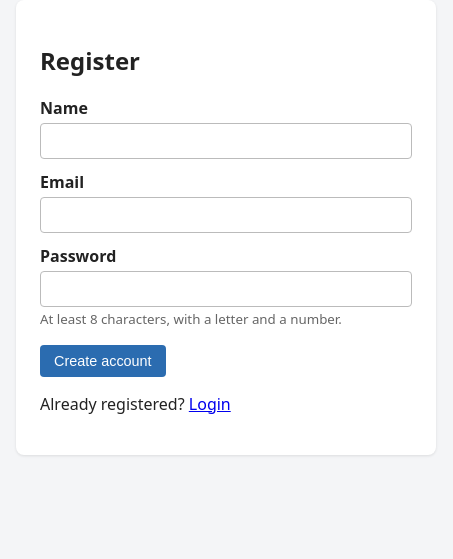
Test: RegisterPage › shows validation errors from the server
The width and height of the screenshot is (453, 559).
Type "Sam" into the field labelled "Name". click: (226, 141)
box: [40,123,412,159]
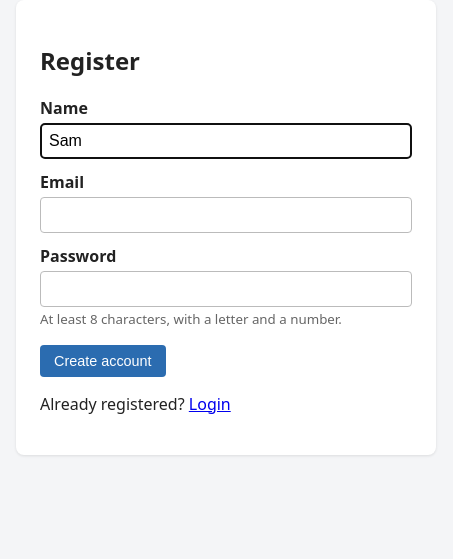
Type "sam@test.com" into the field labelled "Email". click: (226, 215)
box: [40,197,412,233]
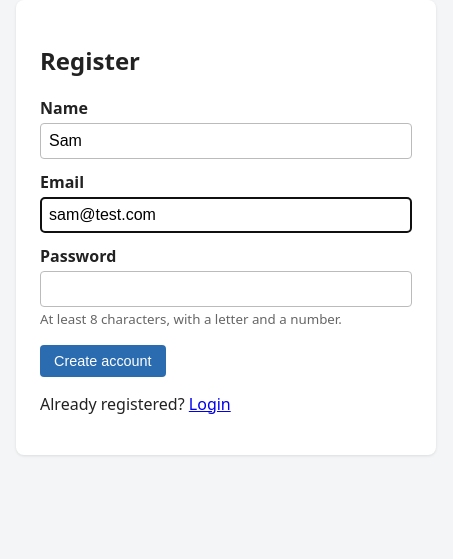
Type "Reader123" into the password field labelled "Password". click: (226, 289)
box: [40,271,412,307]
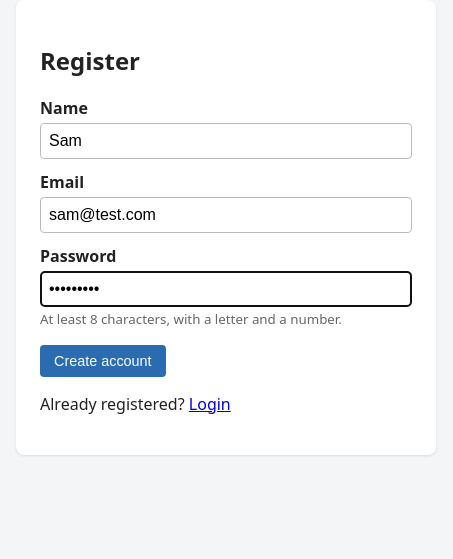
Click the button "Create account". click: click(103, 361)
box: [40,345,166,377]
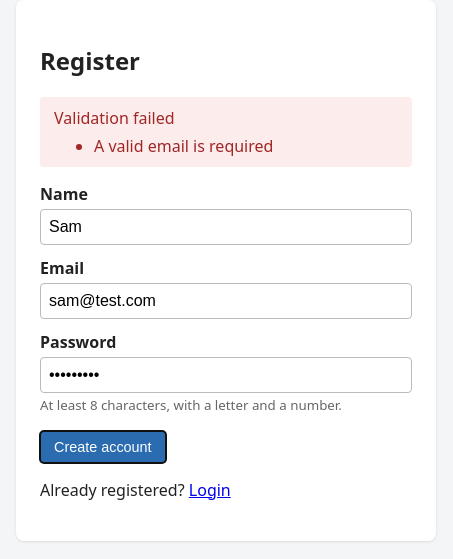
Expected: the message shows "Validation failed", [54,107,175,129]
Expected: the message shows "A valid email is required", [94,135,273,157]
